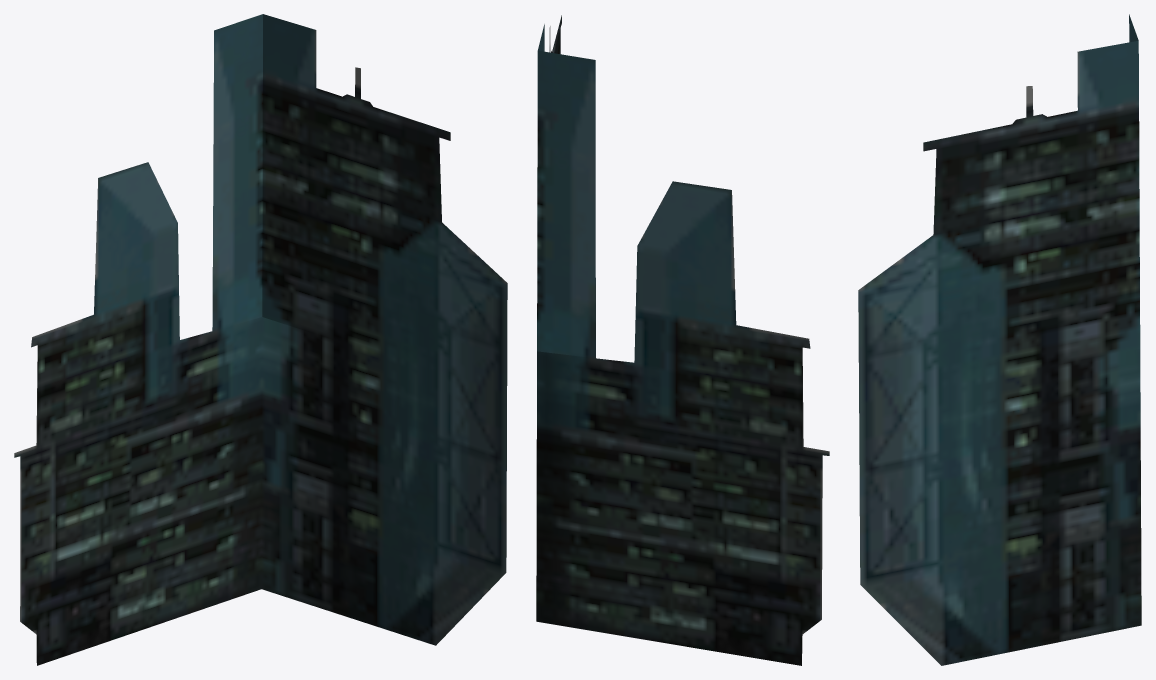
File: site_02.glb
The picture shows the model from 3 angles, left to right: view 1: azimuth 30°, elevation 25°; view 2: azimuth 150°, elevation 25°; view 3: azimuth 270°, elevation 25°; orthographic projection. The views are drawn at different scales.
Parts seen in each view (by area): view 1: CHR_1B.273_mat_94.003_0; view 2: CHR_1B.273_mat_94.003_0; view 3: CHR_1B.273_mat_94.003_0.
Boxes of the visible parts, x1,y1,x2,y2 form: CHR_1B.273_mat_94.003_0: (14,14,507,665); CHR_1B.273_mat_94.003_0: (536,15,829,665); CHR_1B.273_mat_94.003_0: (858,14,1141,665).
Bounding box in the file's own units: 127 × 186 × 81.19.
Materials: 1 (1 with a texture image).
